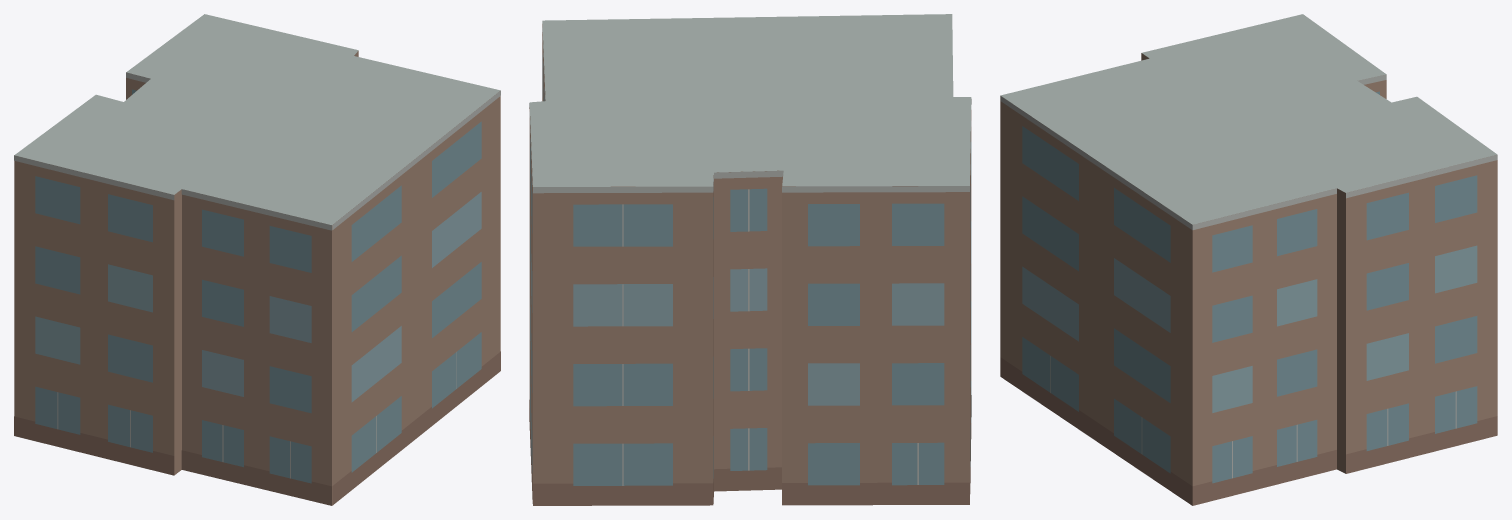
Rendered from survey-upis-32820285.glb.
3 renders of one model, left to right at view 1: azimuth 30°, elevation 25°; view 2: azimuth 150°, elevation 25°; view 3: azimuth 270°, elevation 25°, orthographic. The views are drawn at different scales.
Parts seen in each view (by area): view 1: survey-upis-32820285.tmp; view 2: survey-upis-32820285.tmp; view 3: survey-upis-32820285.tmp.
Boxes of the visible parts, <box> form: survey-upis-32820285.tmp: <box>14,14,500,505</box>; survey-upis-32820285.tmp: <box>529,14,971,505</box>; survey-upis-32820285.tmp: <box>1000,14,1497,505</box>.
Size of the model in its own units: 20.28 by 12.6 by 20.21.
